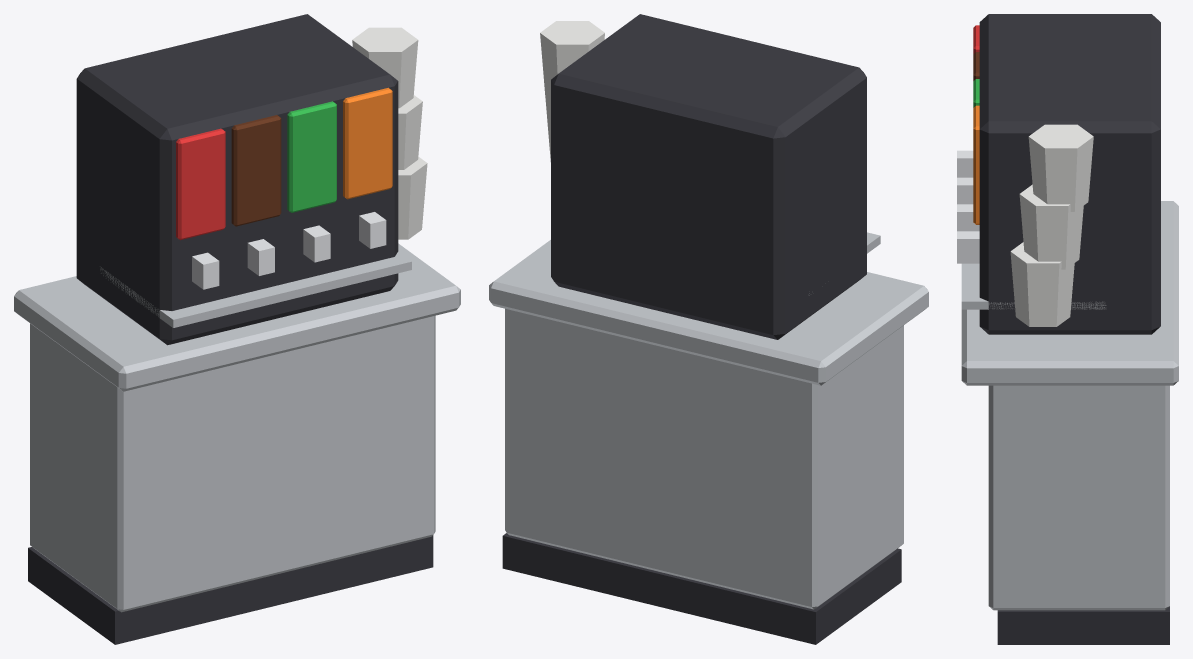
File: SodaFountain.fbx
3 views of the same model, side by side, from view 1: azimuth 30°, elevation 25°; view 2: azimuth 150°, elevation 25°; view 3: azimuth 270°, elevation 25° (orthographic).
Visible parts, largest first — view 1: SodaFountain; view 2: SodaFountain; view 3: SodaFountain.
Part boxes in pixels (x1,y1,x2,y2): SodaFountain: [14, 14, 460, 644]; SodaFountain: [489, 14, 928, 644]; SodaFountain: [957, 14, 1178, 644].
Size of the model in its own units: 4.3 by 6.1 by 2.45.
Materials: 1 (1 with a texture image).
